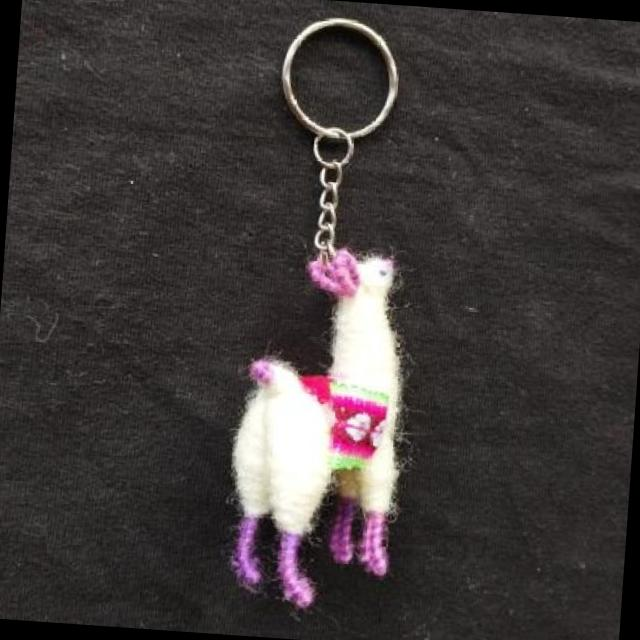Llavero: (218, 353, 340, 611)
